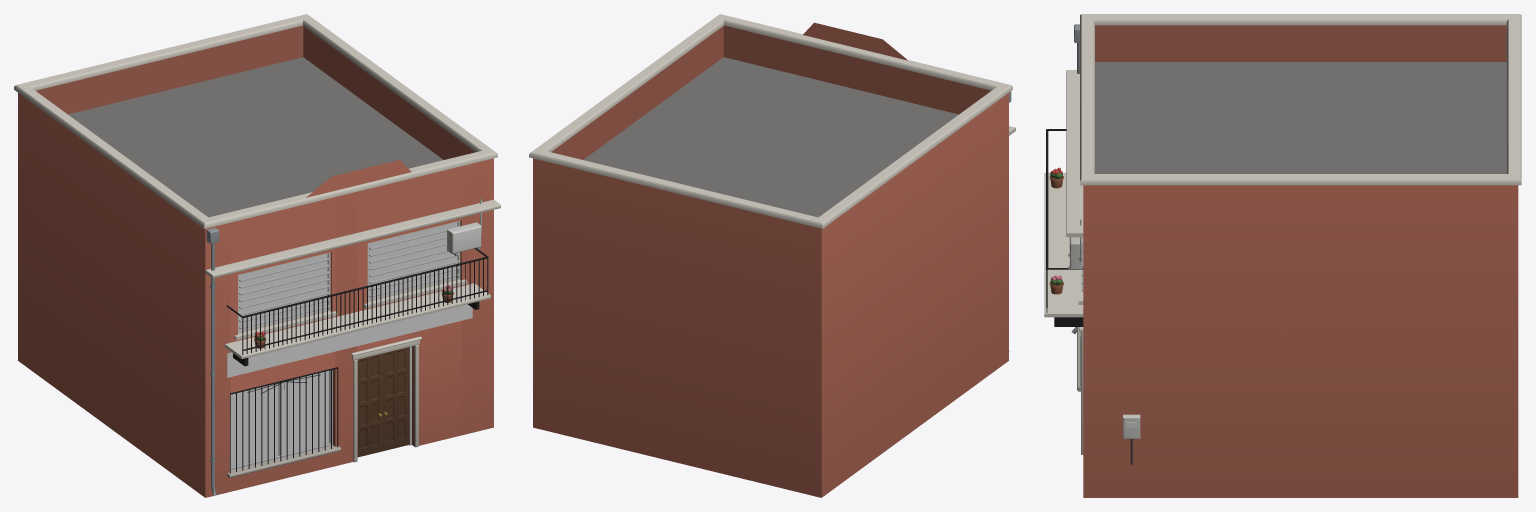
The model's file is TabaqueriaMIA.fbx.
3 renders of one model, left to right at view 1: azimuth 30°, elevation 25°; view 2: azimuth 150°, elevation 25°; view 3: azimuth 270°, elevation 25°, orthographic. The views are drawn at different scales.
Parts seen in each view (by area): view 1: TabaqueriaMIA; view 2: TabaqueriaMIA; view 3: TabaqueriaMIA.
Part boxes in pixels (<box>): TabaqueriaMIA: <box>14,14,500,497</box>; TabaqueriaMIA: <box>529,14,1015,497</box>; TabaqueriaMIA: <box>1044,14,1521,497</box>.
Bounding box in the file's own units: 8.22 × 7.7 × 9.88.
